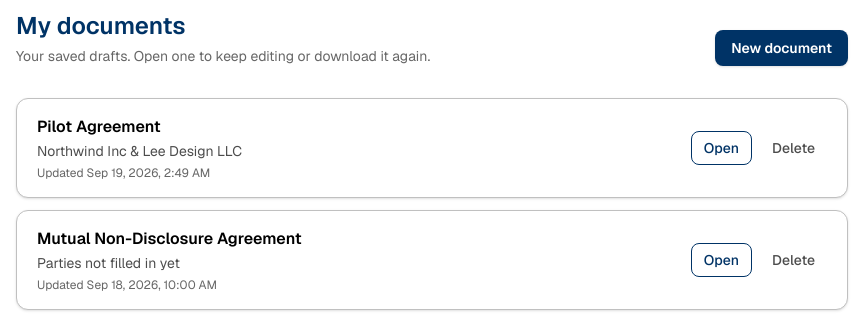
it: MyDocuments › deletes a confirmed document and removes it from the list
Step 1. Click the button with aria-label "Delete Pilot Agreement" → (793, 148), box [760,132,827,164]
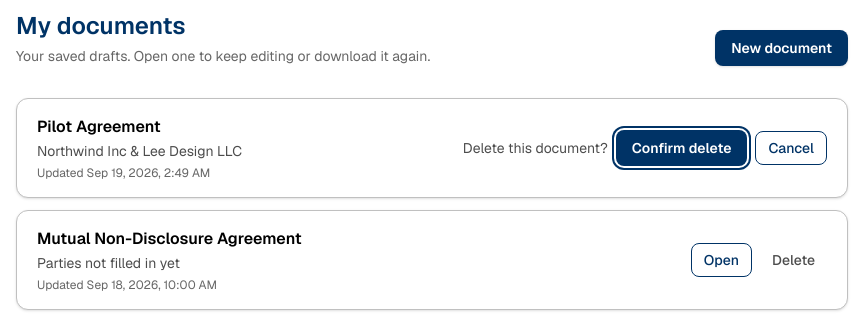
Step 2. Click the button "Confirm delete" → (682, 148), box [616,130,747,166]
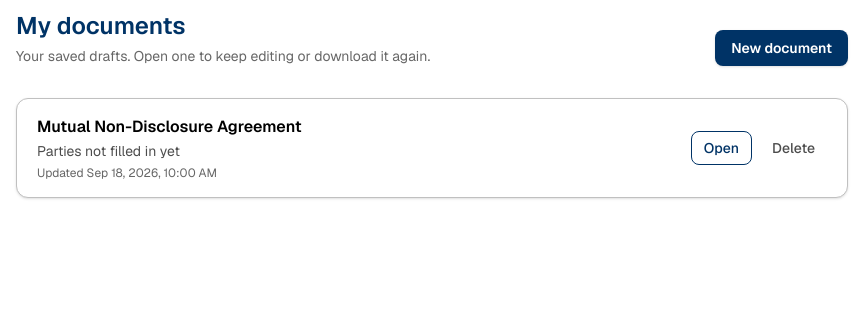
Result: the number of list items is 1 at [16,98,848,198]
Result: the text "Pilot Agreement" is gone
